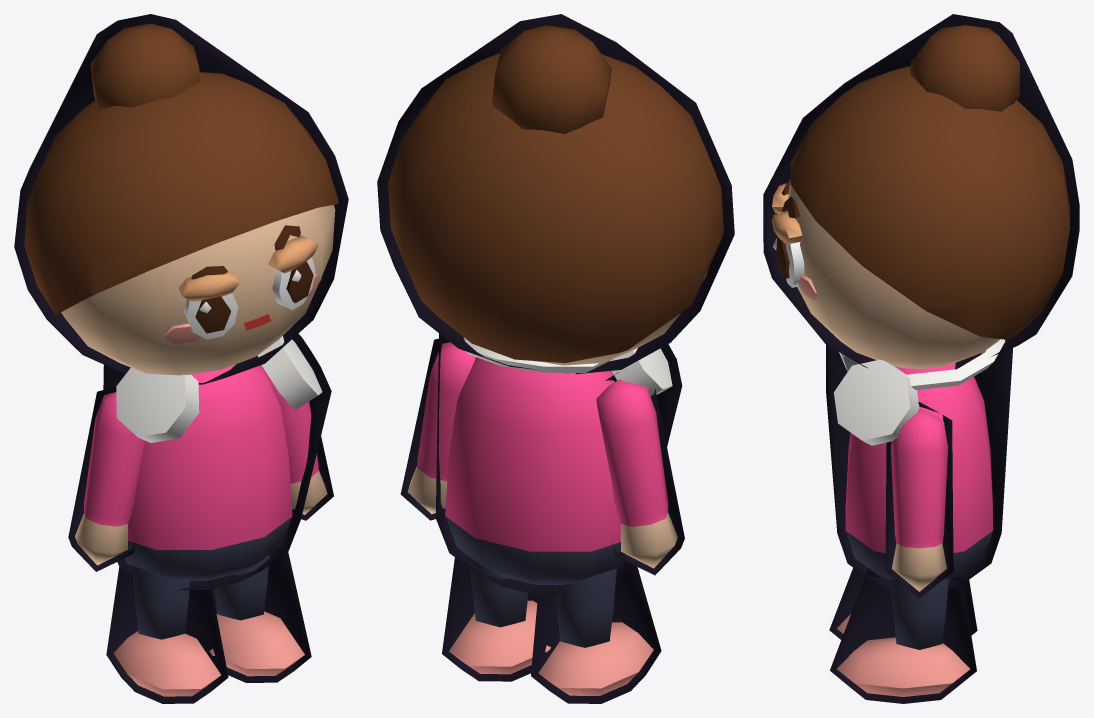
Rendered from figur_dutt.glb.
3 views of the same model, side by side, from view 1: azimuth 30°, elevation 25°; view 2: azimuth 150°, elevation 25°; view 3: azimuth 270°, elevation 25° (orthographic). The views are drawn at different scales.
Visible parts, largest first — view 1: kopf, koerper, bein_r, bein_l, arm_r, arm_l; view 2: kopf, koerper, bein_r, arm_r, bein_l, arm_l; view 3: kopf, koerper, bein_l, arm_l, bein_r.
Part boxes in pixels (x1,y1,x2,y2): kopf: [14, 14, 348, 384]; koerper: [103, 333, 331, 589]; bein_r: [106, 565, 228, 703]; bein_l: [209, 537, 311, 682]; arm_r: [68, 386, 144, 571]; arm_l: [264, 370, 333, 520]; kopf: [377, 14, 734, 374]; koerper: [435, 333, 682, 594]; bein_r: [531, 564, 661, 703]; arm_r: [596, 372, 684, 575]; bein_l: [442, 556, 550, 681]; arm_l: [400, 337, 475, 520]; kopf: [763, 14, 1079, 369]; koerper: [826, 337, 1013, 589]; bein_l: [830, 568, 976, 703]; arm_l: [885, 402, 953, 598]; bein_r: [829, 567, 977, 639].
Bounding box in the file's own units: 0.6358 × 1.32 × 0.5953.
